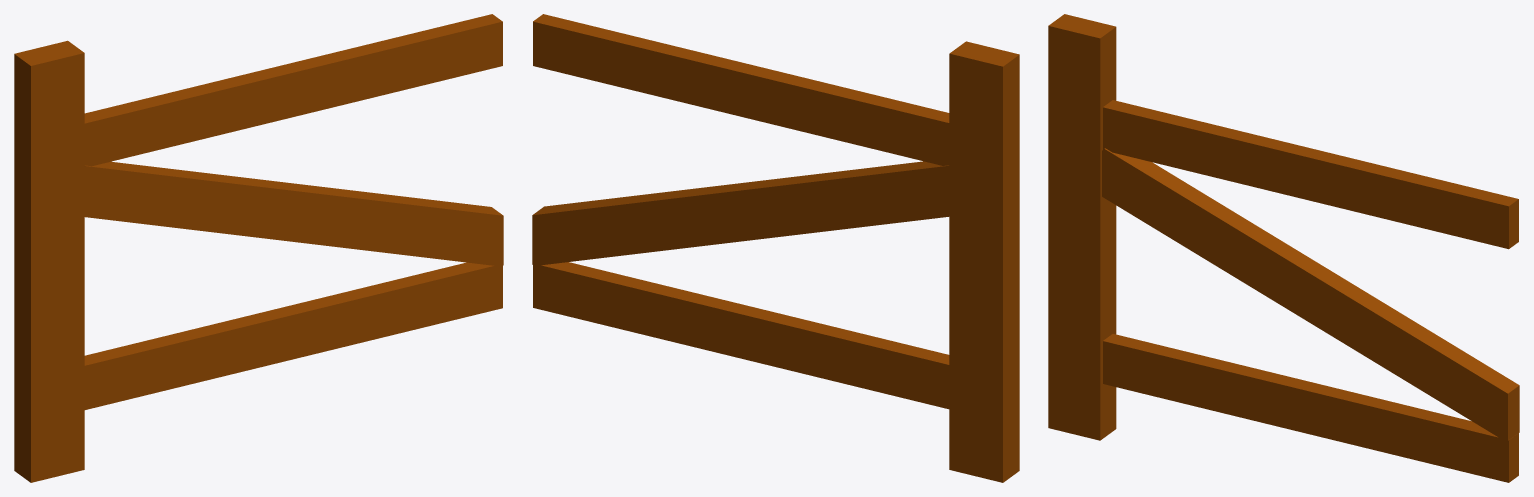
The model's file is Fence_Timber_Small_End_01.fbx.
3 renders of one model, left to right at view 1: azimuth 30°, elevation 25°; view 2: azimuth 150°, elevation 25°; view 3: azimuth 330°, elevation 25°, orthographic. The views are drawn at different scales.
Visible parts, largest first — view 1: Fence_Timber_Small_End_01; view 2: Fence_Timber_Small_End_01; view 3: Fence_Timber_Small_End_01.
Boxes of the visible parts, x1=… form: Fence_Timber_Small_End_01: x1=14, y1=14, x2=503, y2=482; Fence_Timber_Small_End_01: x1=532, y1=14, x2=1019, y2=482; Fence_Timber_Small_End_01: x1=1048, y1=14, x2=1519, y2=482.
Size of the model in its own units: 42.48 by 35.64 by 2.59.
